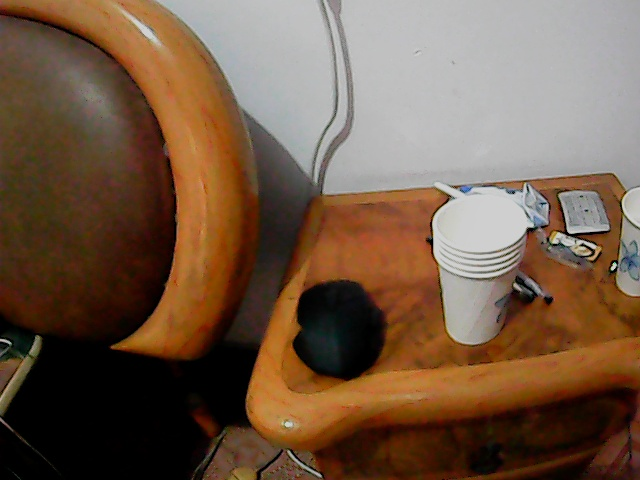cup: (428, 192, 531, 346)
mouse: (292, 275, 384, 380)
